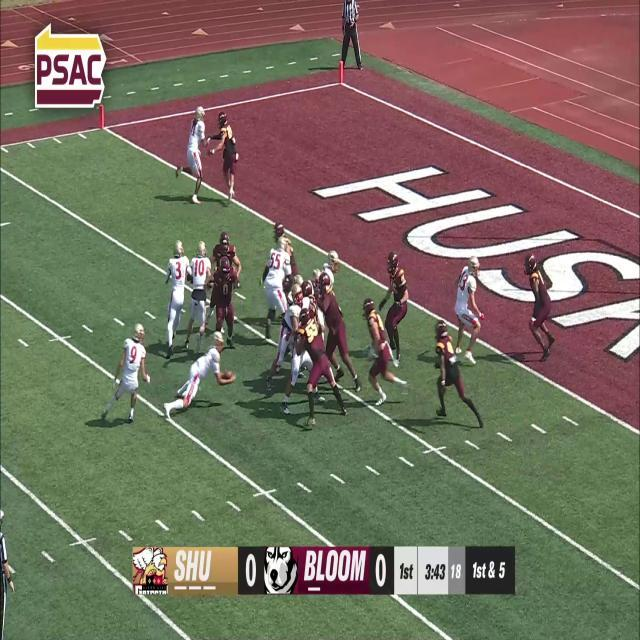football: (222, 370, 234, 383)
